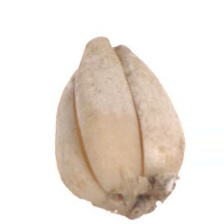L1: (105, 190, 173, 220), (78, 36, 131, 53)
L2: (54, 37, 186, 220)
